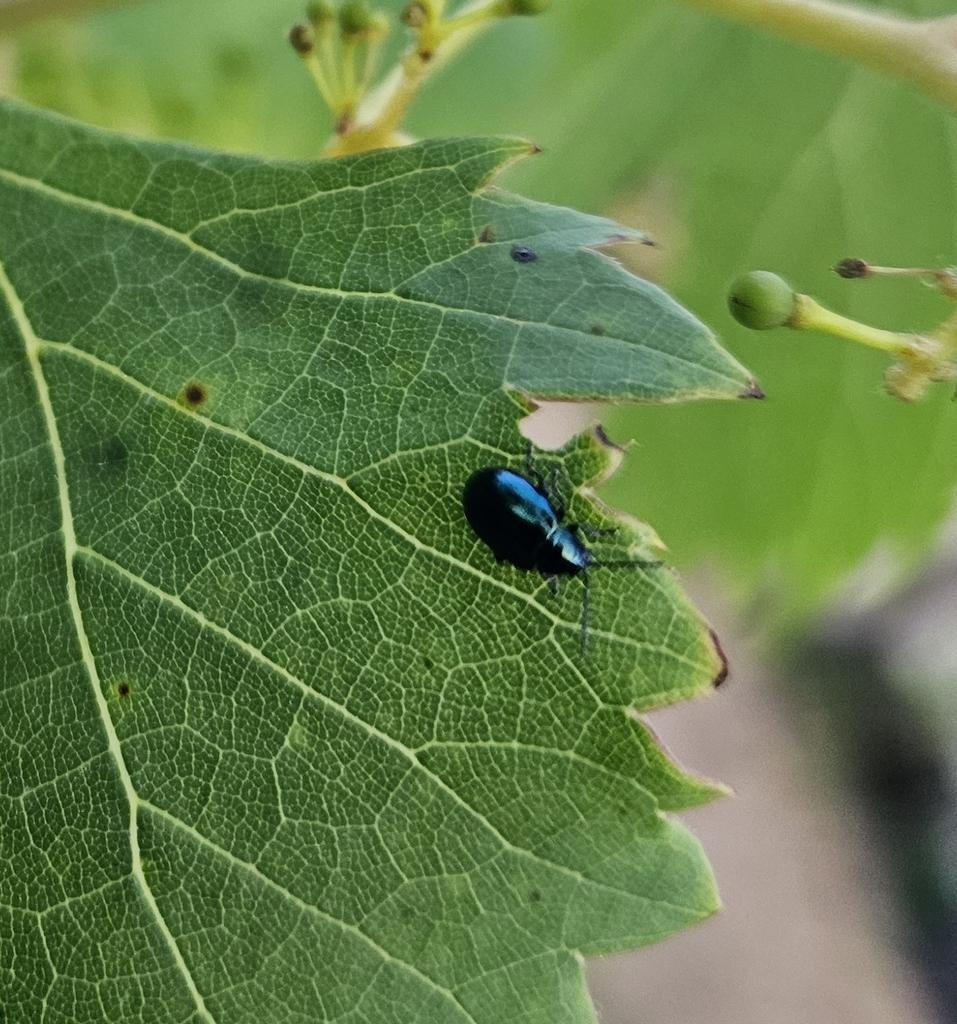flea_beetle: (422, 398, 647, 643)
